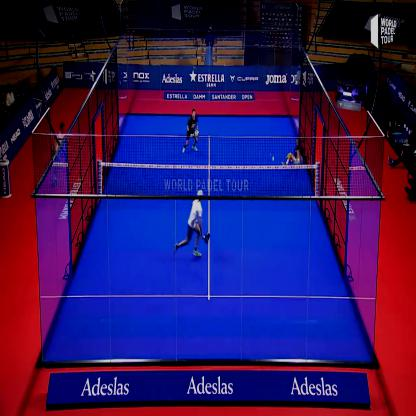ball: (270, 154, 276, 164)
